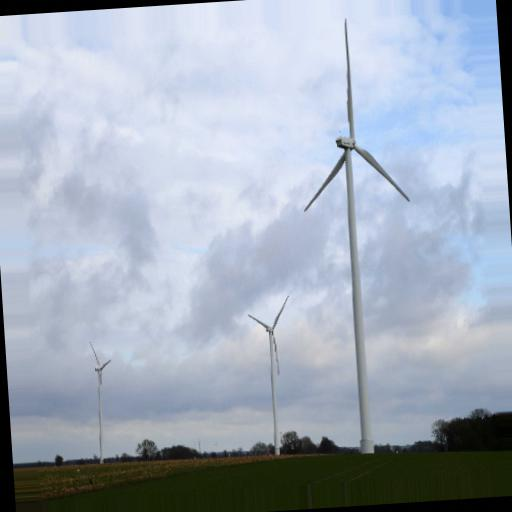wind turbine: (301, 16, 409, 459), (245, 294, 293, 454), (90, 336, 113, 463)
